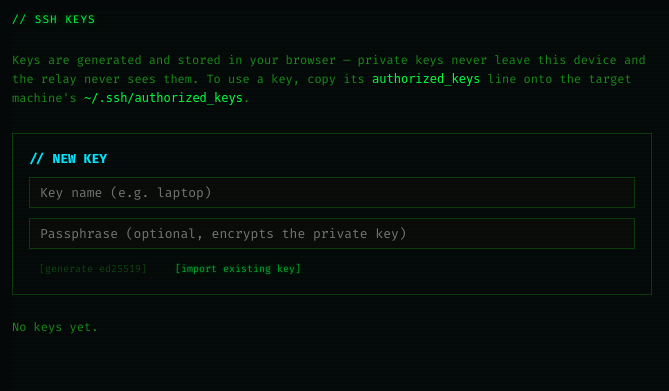
it: KeysPage › shows the error and saves nothing when generation fails
This screenshot has width=669, height=391.
Type "doomed" into the field with placeholder "Key name (e.g. laptop)" at (332, 192), box left=29, top=177, right=635, bottom=208
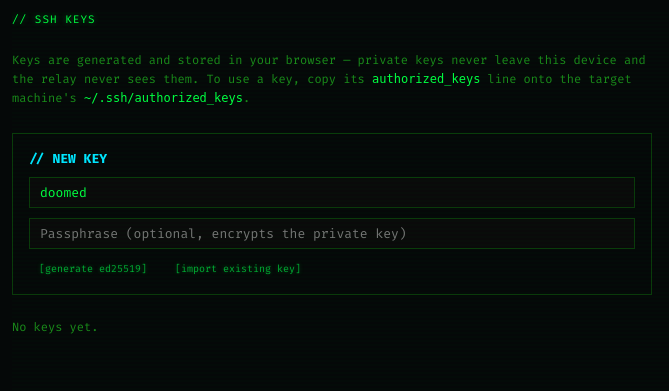
Click the button "[generate ed25519]" at (93, 268), box left=29, top=259, right=157, bottom=278
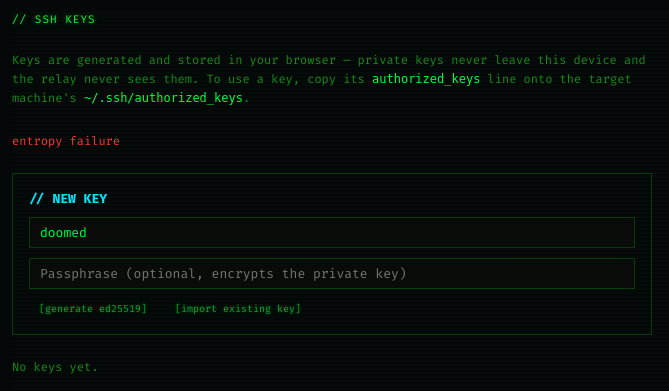
Expected: the text "entropy failure" is shown, left=12, top=133, right=120, bottom=149
